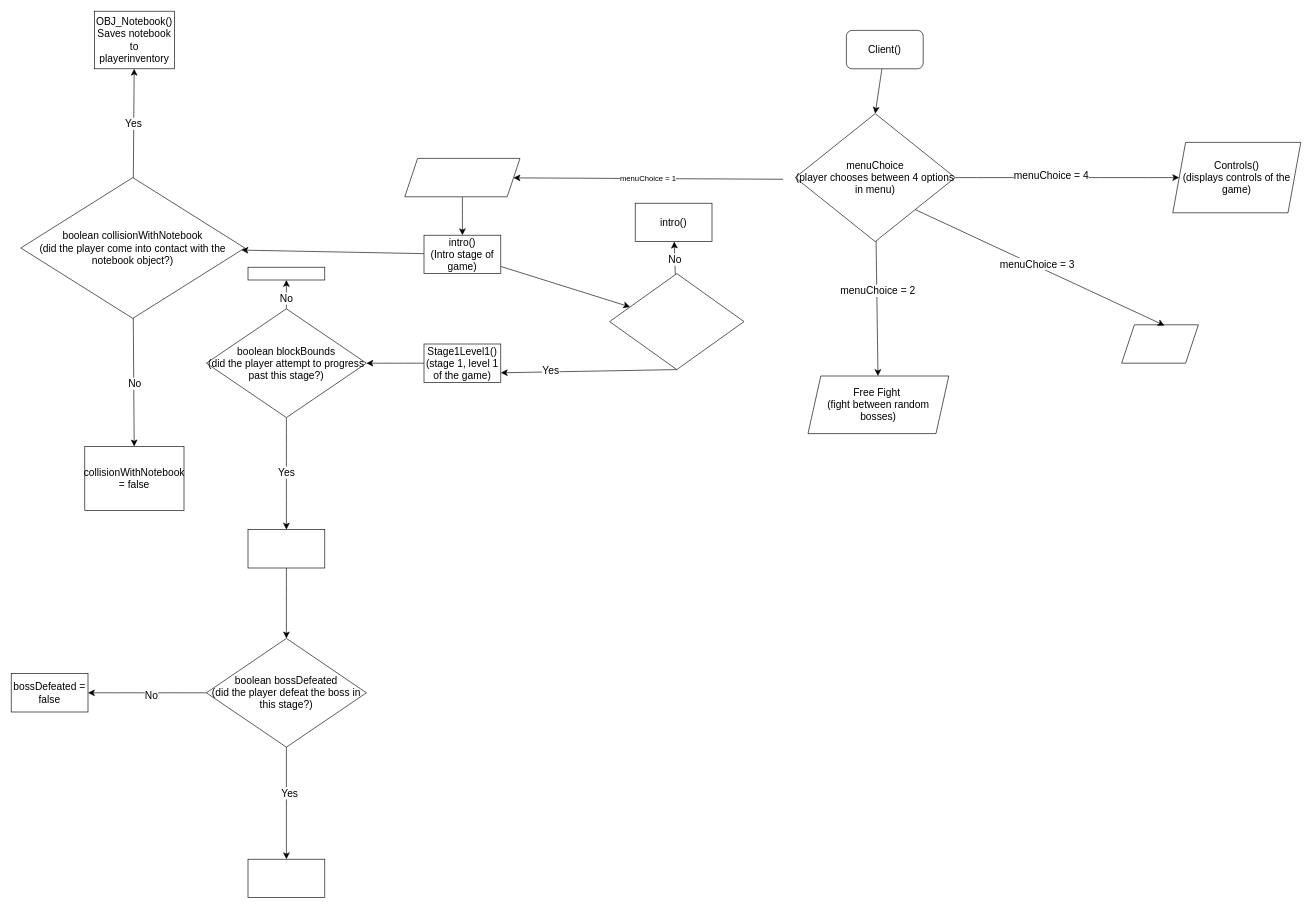
This 1312x909 diagram has some shape labels left out. The shapes that lost their labels are listed below. From the top down, each one's centre as x and y in pixels, then its label:
At (462,177): "GamePanel() (game starts)".
At (286,273): "Stage1Level1()".
At (676,321): "boolean isIntro (did the player attempt to progress past this stage?)".
At (1159,343): "Loads saved game".
At (286,548): "Stage1Level2()".
At (286,878): "Stage1Level3() (stage 1, level 3 of the game)".
